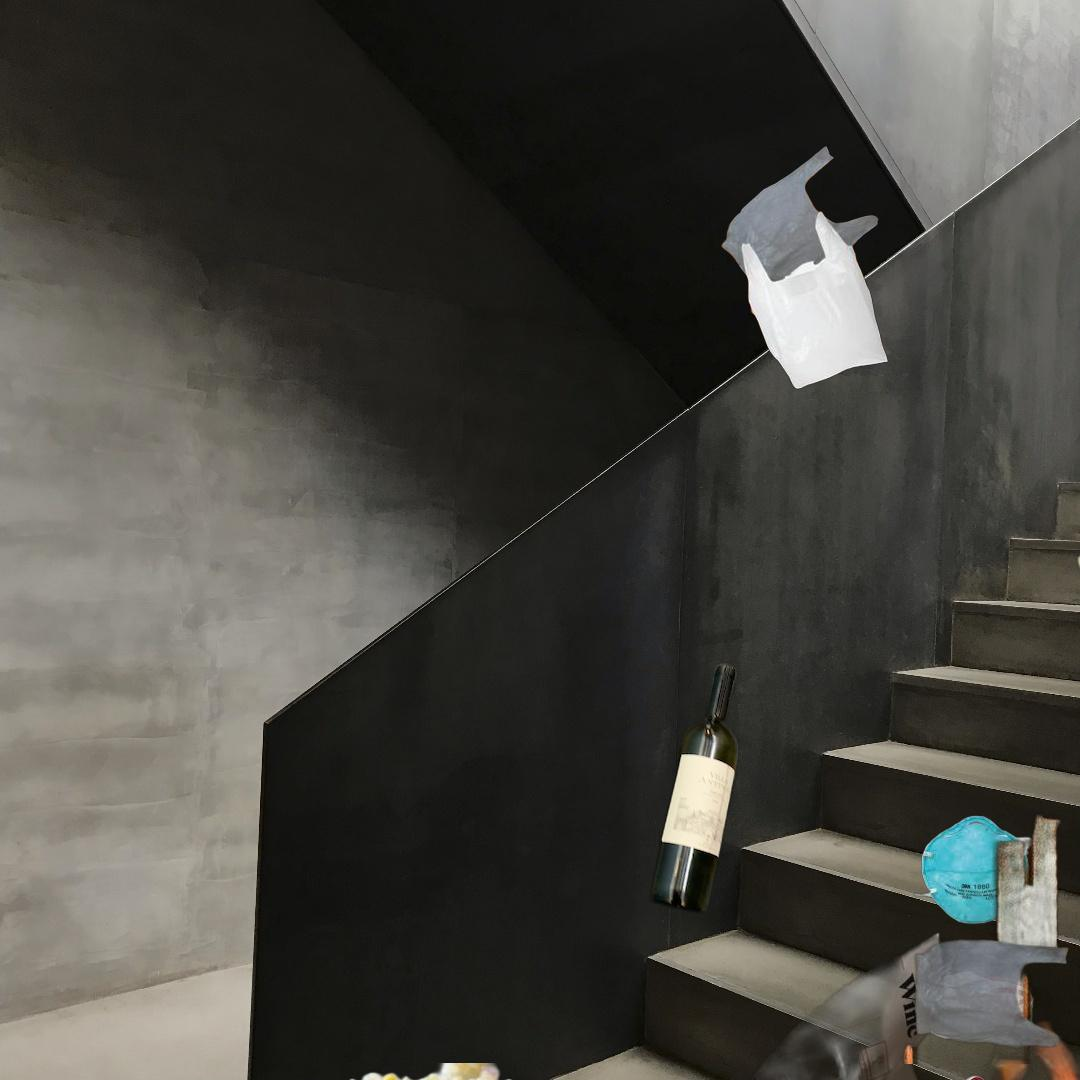biological: (206, 1063, 669, 1080)
glass: (645, 658, 743, 919)
paper: (680, 922, 989, 1080), (1073, 389, 1080, 740)
plastic-bag: (897, 807, 1080, 1064), (720, 143, 891, 392)
trash: (906, 812, 1043, 1080)
trashbox-cardboard: (837, 1018, 1080, 1080)
